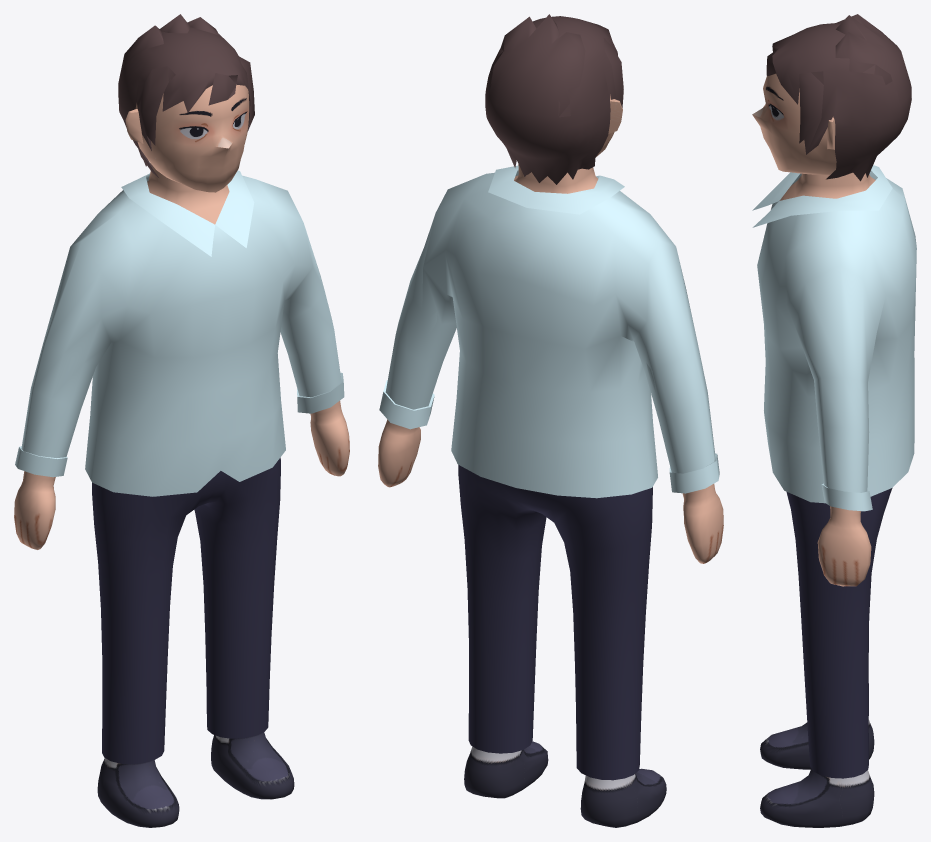
File: coworker.fbx
3 renders of one model, left to right at view 1: azimuth 30°, elevation 25°; view 2: azimuth 150°, elevation 25°; view 3: azimuth 270°, elevation 25°, orthographic. The views are drawn at different scales.
Parts seen in each view (by area): view 1: Roundcube.002, Roundcube.003, Roundcube.001, Roundcube.004, Roundcube; view 2: Roundcube.002, Roundcube.003, Roundcube.004, Roundcube.001; view 3: Roundcube.002, Roundcube.003, Roundcube.004, Roundcube.001, Roundcube.
Boxes of the visible parts, left/top/right/bottom form: Roundcube.002: left=15, top=170, right=344, bottom=496; Roundcube.003: left=92, top=457, right=280, bottom=764; Roundcube.001: left=14, top=163, right=349, bottom=827; Roundcube.004: left=118, top=14, right=254, bottom=177; Roundcube: left=125, top=84, right=249, bottom=192; Roundcube.002: left=379, top=165, right=719, bottom=498; Roundcube.003: left=458, top=465, right=652, bottom=780; Roundcube.004: left=485, top=14, right=623, bottom=184; Roundcube.001: left=378, top=164, right=723, bottom=827; Roundcube.002: left=752, top=165, right=916, bottom=511; Roundcube.003: left=786, top=488, right=892, bottom=778; Roundcube.004: left=766, top=14, right=911, bottom=181; Roundcube.001: left=760, top=172, right=875, bottom=827; Roundcube: left=752, top=73, right=836, bottom=175.
Bounding box in the file's own units: 249 × 562 × 108.
Materials: 4 (1 with a texture image).
